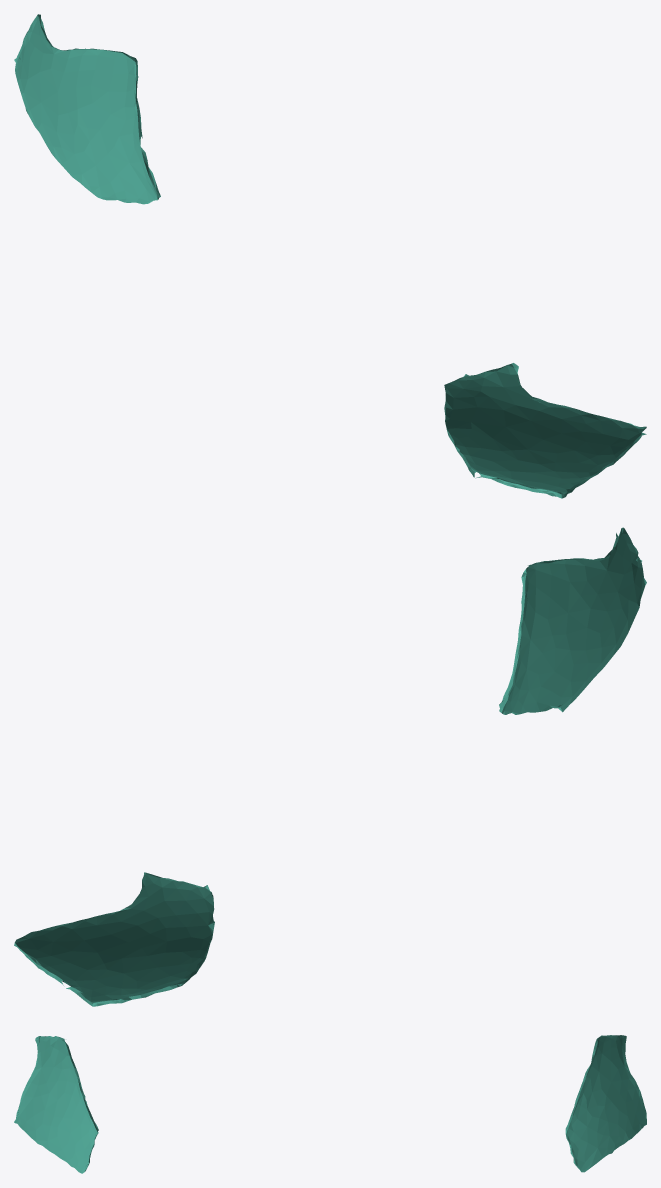
The picture shows the model from 3 angles, top to bottom: view 1: azimuth 30°, elevation 25°; view 2: azimuth 150°, elevation 25°; view 3: azimuth 270°, elevation 25°; orthographic projection. The views are drawn at different scales.
Parts seen in each view (by area): view 1: 2.obj; view 2: 2.obj; view 3: 2.obj.
Part boxes in pixels (x1,y1,x2,y2): 2.obj: (14,14,646,498); 2.obj: (14,527,646,1006); 2.obj: (14,1035,646,1173).
Size of the model in its own units: 1245 by 1324 by 6729.
